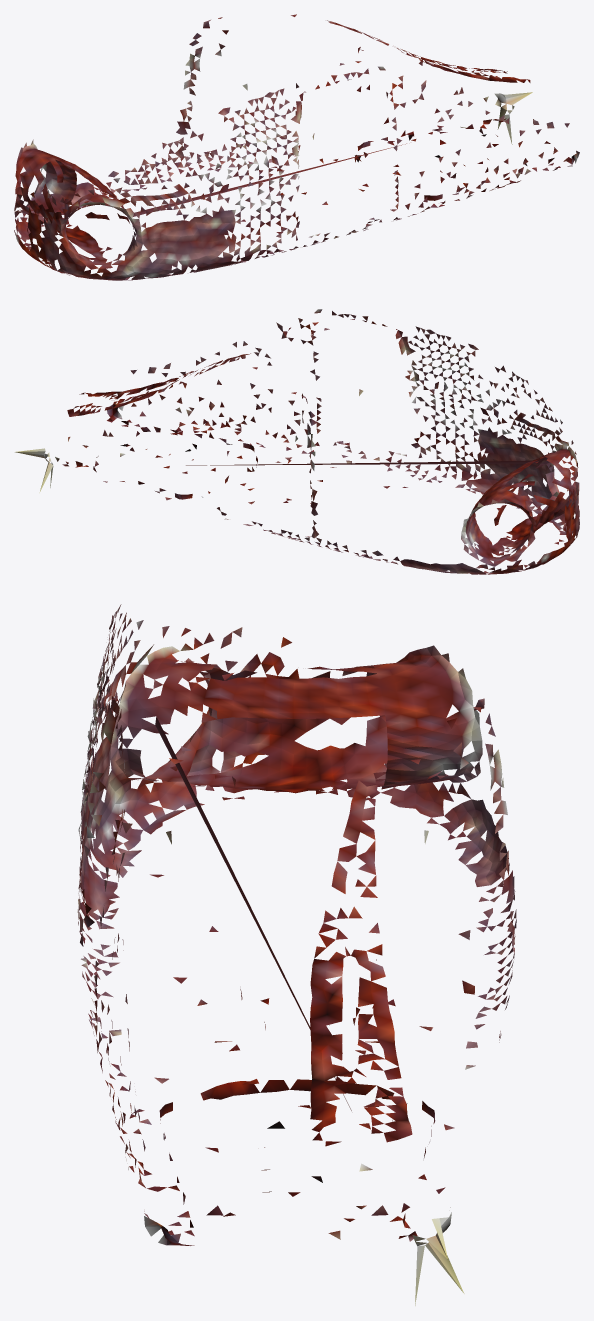
The model's file is whistle_final700.obj.
3 renders of one model, top to bottom at view 1: azimuth 30°, elevation 25°; view 2: azimuth 150°, elevation 25°; view 3: azimuth 270°, elevation 25°, orthographic. The views are drawn at different scales.
Size of the model in its own units: 2.01 by 0.6693 by 0.7419.
